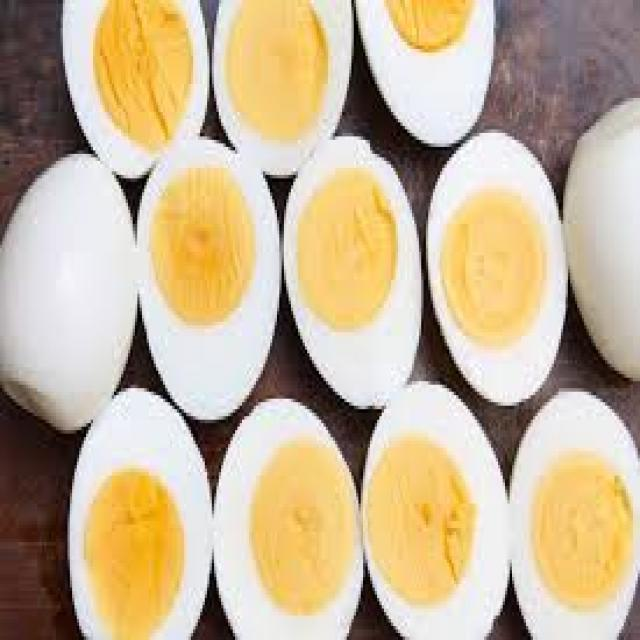boiled egg: (2, 0, 640, 640), (0, 154, 137, 433)
